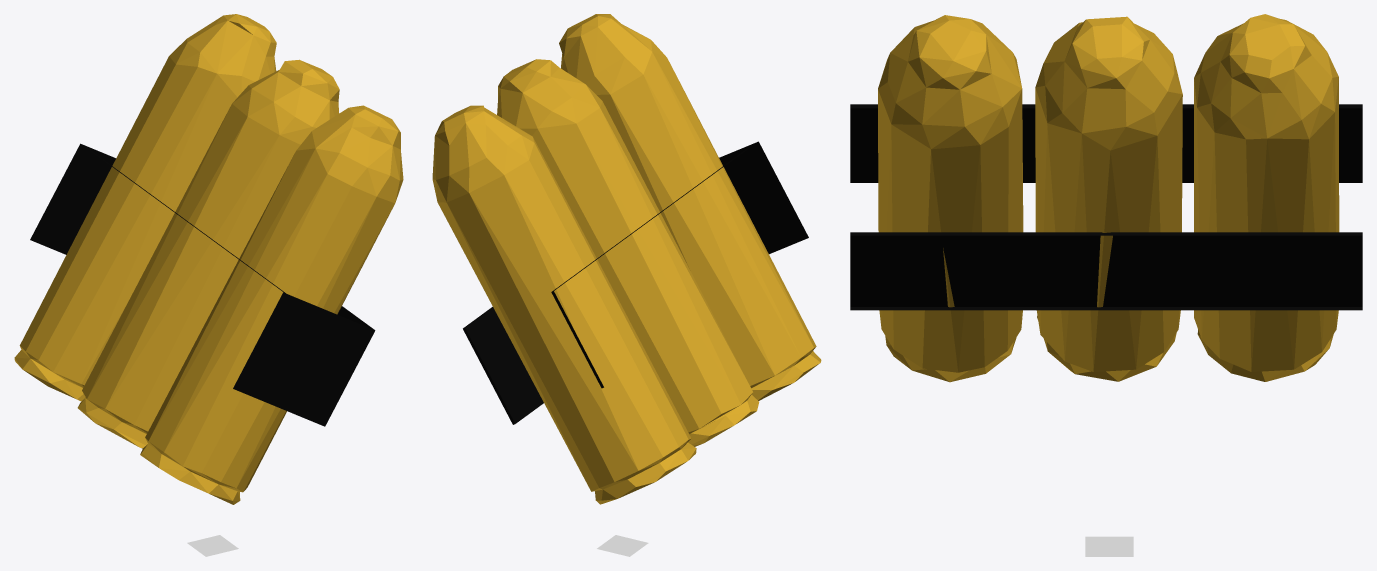
File: ammo drop.fbx
The picture shows the model from 3 angles, left to right: view 1: azimuth 30°, elevation 25°; view 2: azimuth 150°, elevation 25°; view 3: azimuth 270°, elevation 25°; orthographic projection. The views are drawn at different scales.
Visible parts, largest first — view 1: Cylinder.002, Plane; view 2: Cylinder.002, Plane; view 3: Cylinder.002, Plane.
Part boxes in pixels (x1=…): Cylinder.002: x1=14, y1=14, x2=403, y2=504; Plane: x1=187, y1=535, x2=238, y2=556; Cylinder.002: x1=432, y1=14, x2=821, y2=504; Plane: x1=597, y1=535, x2=648, y2=556; Cylinder.002: x1=850, y1=14, x2=1362, y2=382; Plane: x1=1085, y1=536, x2=1133, y2=556.
Size of the model in its own units: 94.9 by 167 by 134.
